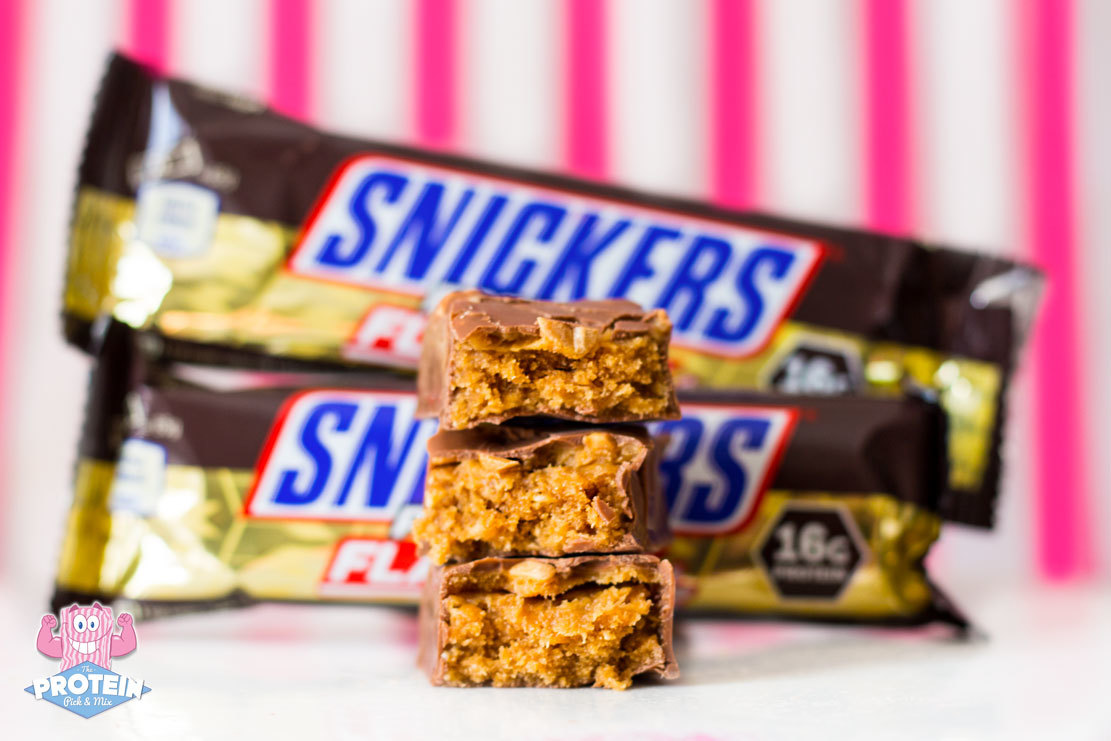snickers: (302, 166, 794, 341), (316, 169, 794, 341), (276, 399, 770, 522), (268, 399, 770, 520), (276, 399, 771, 510)
